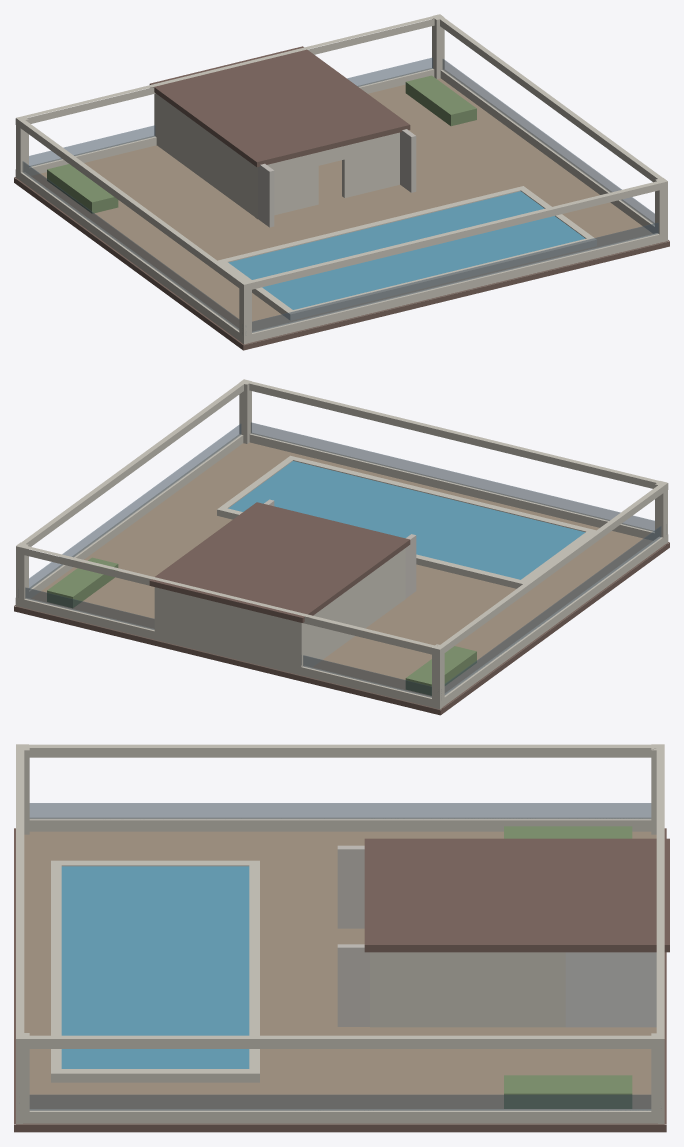
File: brick-roof-b.zfix-v5.lod0.glb
3 renders of one model, top to bottom at view 1: azimuth 30°, elevation 25°; view 2: azimuth 150°, elevation 25°; view 3: azimuth 270°, elevation 25°, orthographic. The views are drawn at different scales.
Visible parts, largest first — view 1: brick-roof-b; view 2: brick-roof-b; view 3: brick-roof-b.
Boxes of the visible parts, left/top/right/bottom form: brick-roof-b: left=14, top=14, right=669, bottom=350; brick-roof-b: left=14, top=379, right=669, bottom=715; brick-roof-b: left=14, top=744, right=669, bottom=1132.
Bounding box in the file's own units: 26.16 × 3.85 × 24.48.
